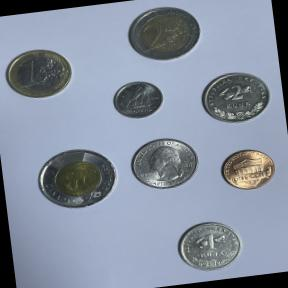1 Euro: (0, 41, 80, 106)
2 Euro: (119, 0, 209, 69)
Canda-10cent-: (107, 74, 169, 126)
Canda-2Dollar-: (30, 140, 124, 217)
Croatia-2Kune-: (194, 65, 278, 131)
US-1cent-: (214, 143, 281, 197)
US-25cent-: (125, 132, 205, 196)
